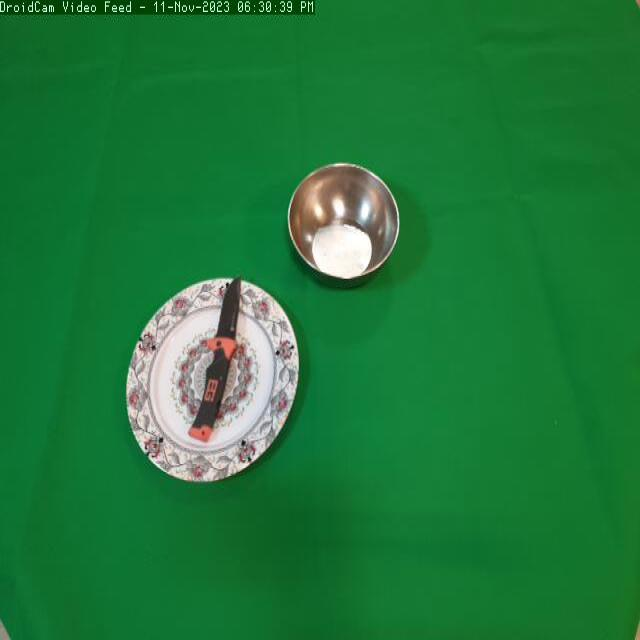bowl: (286, 158, 403, 294)
knife: (187, 274, 253, 442)
plate: (118, 271, 306, 504)
